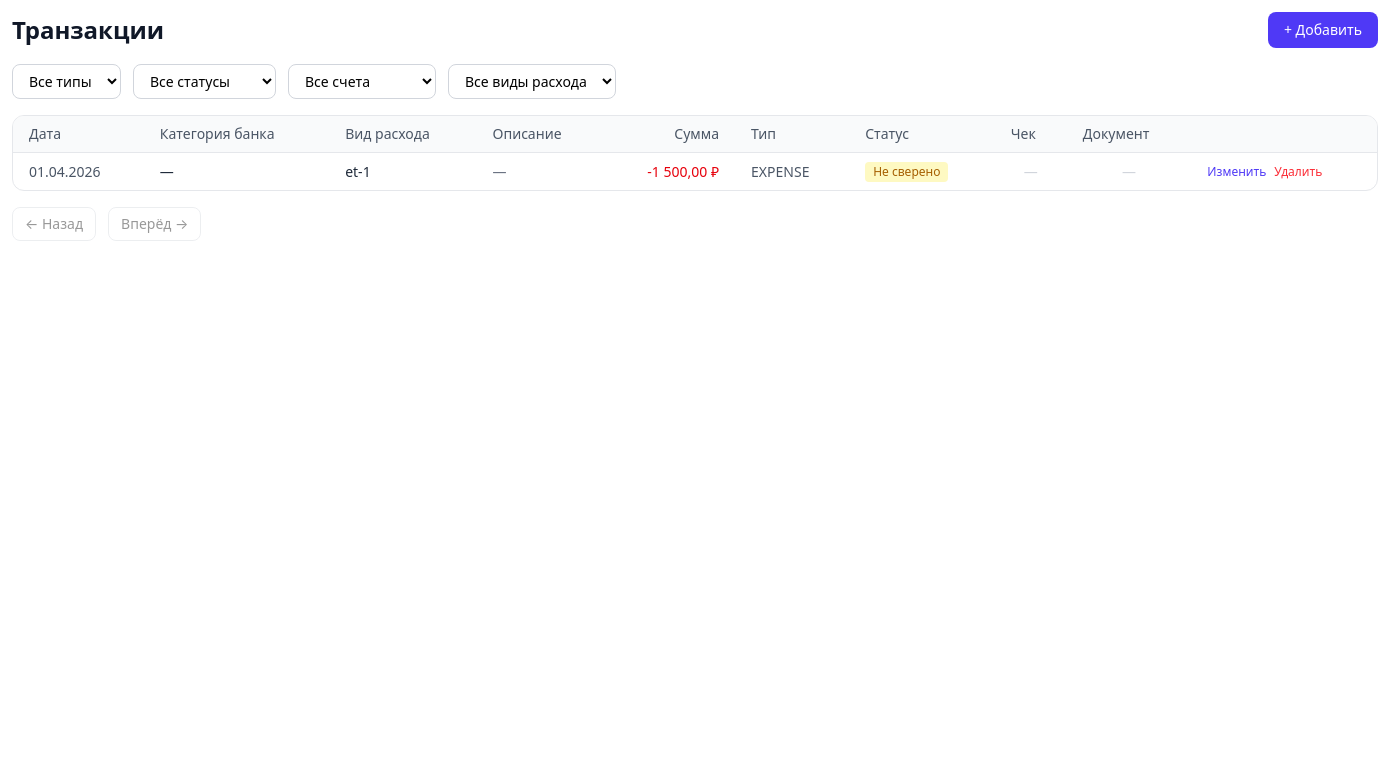
Test case: Transactions page › shows expense type select in new transaction form
Click the button "+ Добавить" at point(1323, 30), box [1268, 12, 1378, 48]
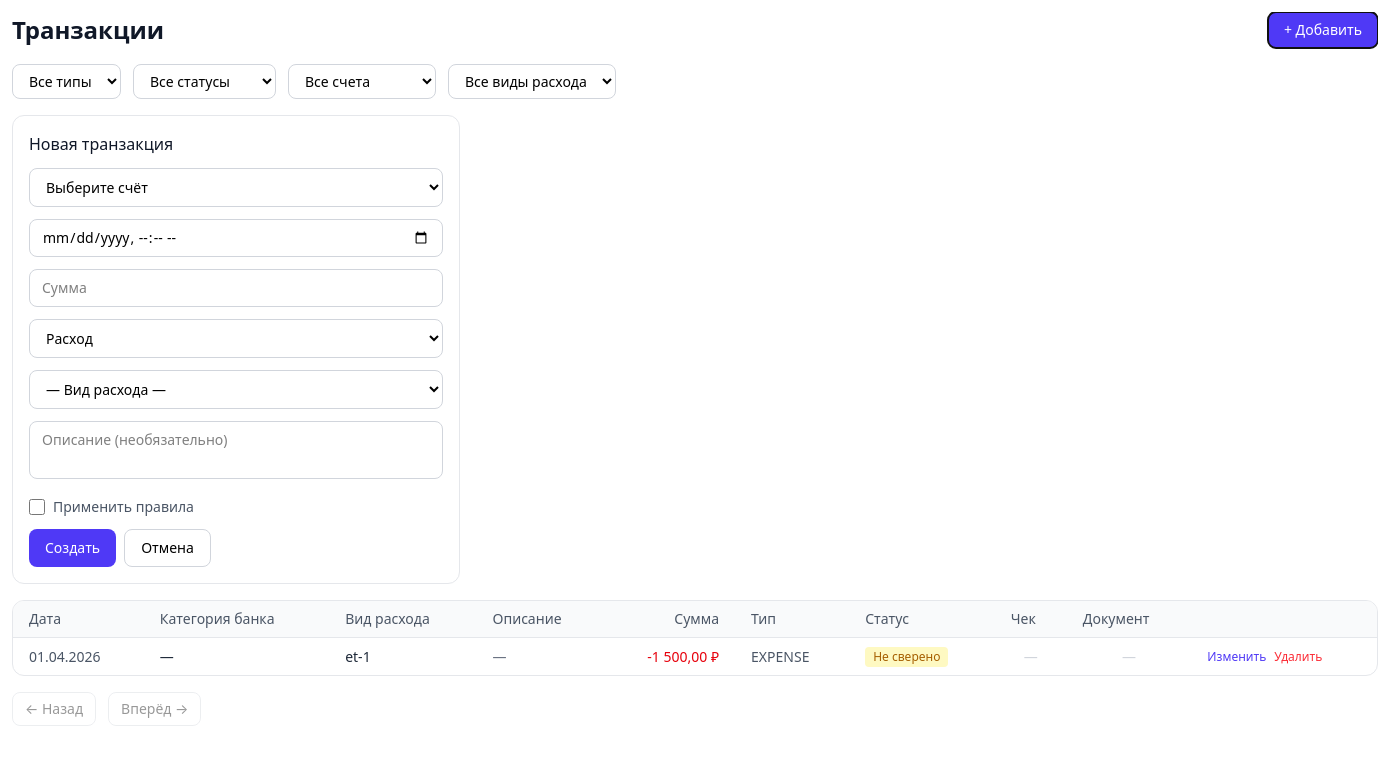
Now the heading "Новая транзакция" is shown, box [29, 133, 173, 155]
